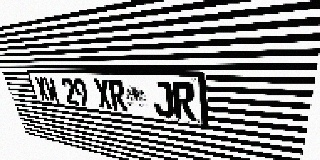2: (60, 78, 79, 105)
9: (72, 78, 91, 107)
J: (151, 81, 174, 118)
R: (172, 82, 196, 121), (107, 79, 128, 112)
W: (43, 77, 60, 103)
X: (93, 79, 113, 110), (34, 76, 50, 101)
